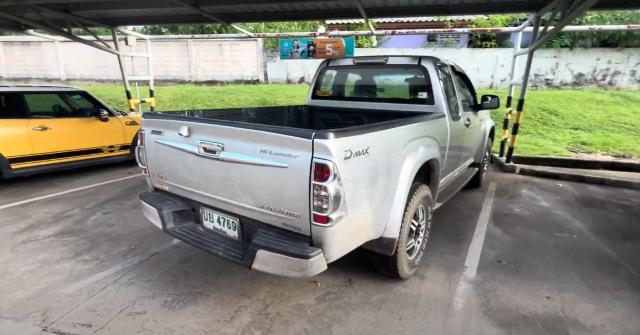pickup-truck: (135, 52, 499, 282)
